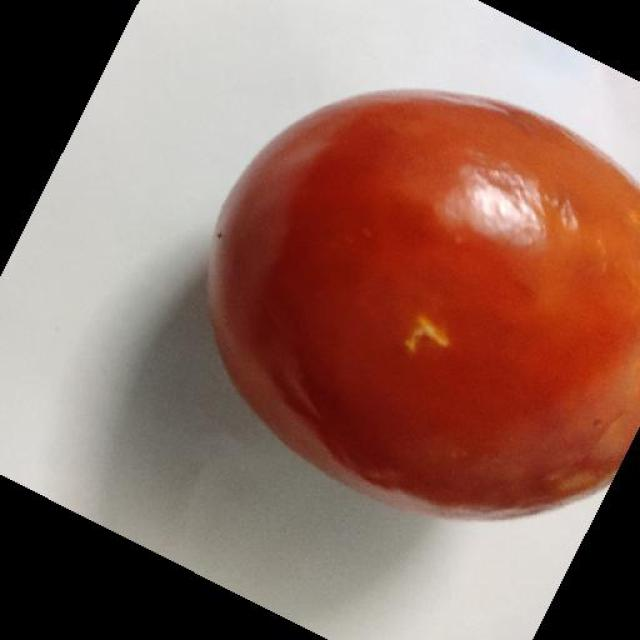Stale_tomato: (257, 111, 636, 505)
